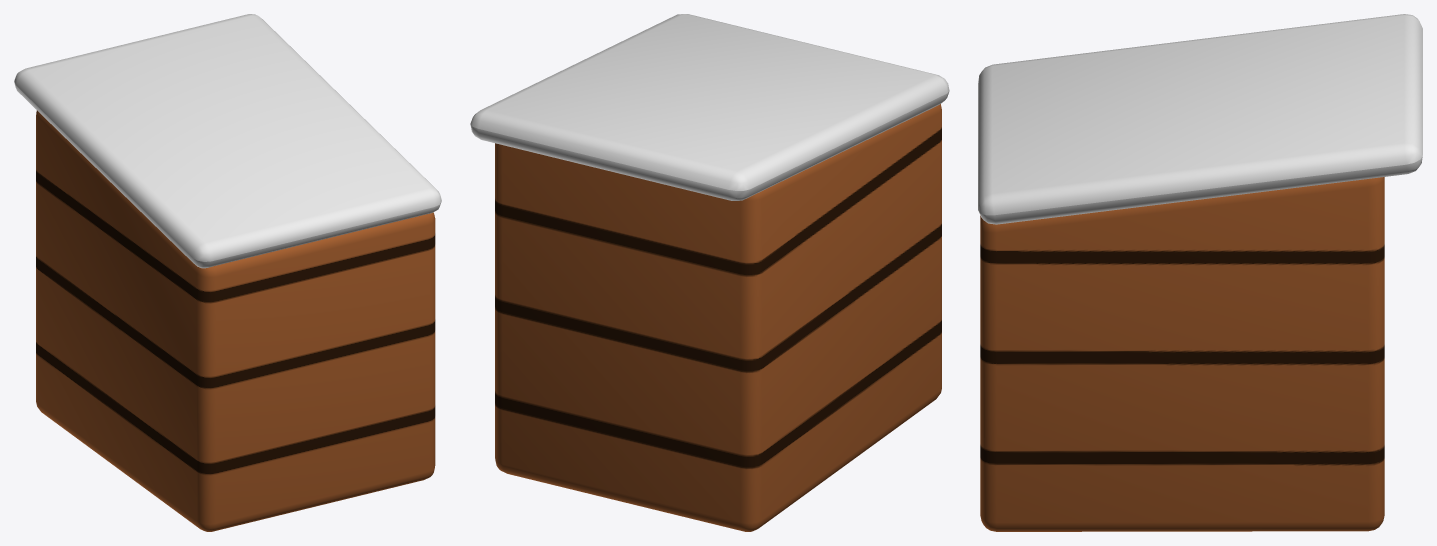
File: Hive.fbx
3 renders of one model, left to right at view 1: azimuth 30°, elevation 25°; view 2: azimuth 150°, elevation 25°; view 3: azimuth 270°, elevation 25°, orthographic. The views are drawn at different scales.
Parts seen in each view (by area): view 1: HiveMain, Roof; view 2: HiveMain, Roof; view 3: HiveMain, Roof.
Boxes of the visible parts, left/top/right/bottom form: HiveMain: left=36, top=110, right=435, bottom=531; Roof: left=14, top=14, right=441, bottom=268; HiveMain: left=495, top=104, right=941, bottom=531; Roof: left=470, top=14, right=949, bottom=200; HiveMain: left=980, top=177, right=1384, bottom=531; Roof: left=978, top=14, right=1422, bottom=224.
Bounding box in the file's own units: 82.06 × 106 × 109.
